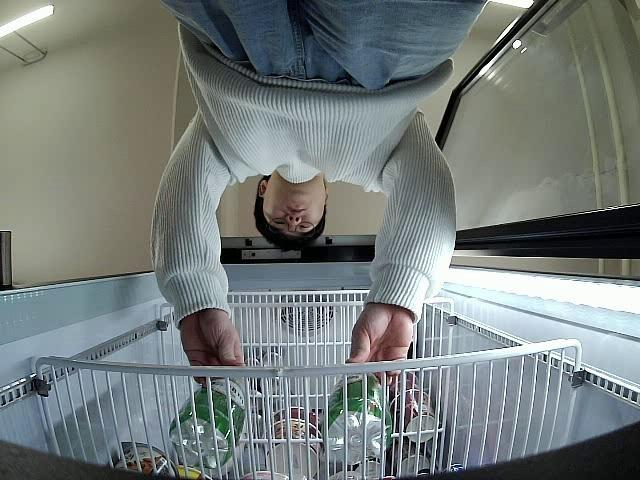18_trevi: (168, 377, 246, 468), (321, 372, 394, 464)
